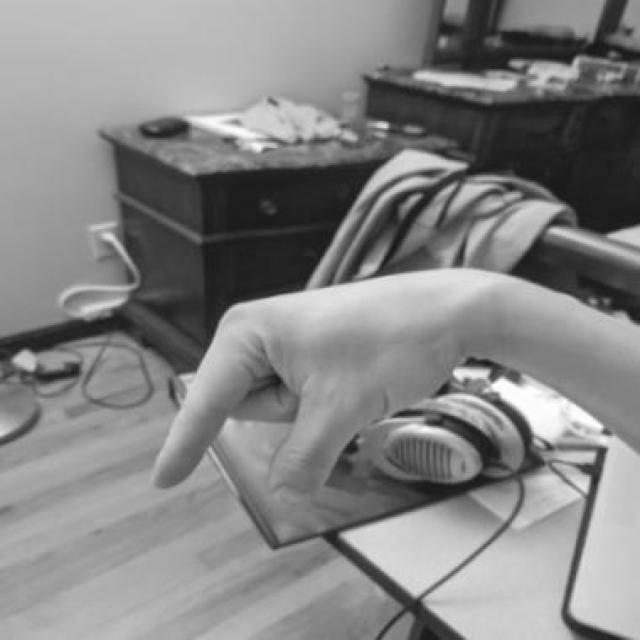Q: (140, 253, 475, 522)
